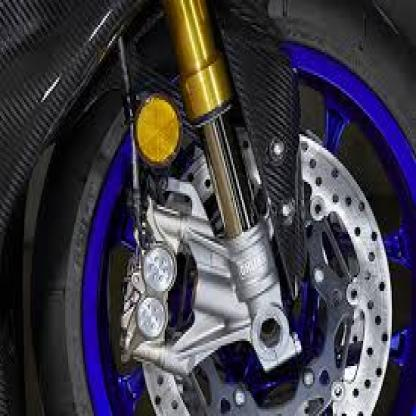bike: (0, 2, 416, 416)
